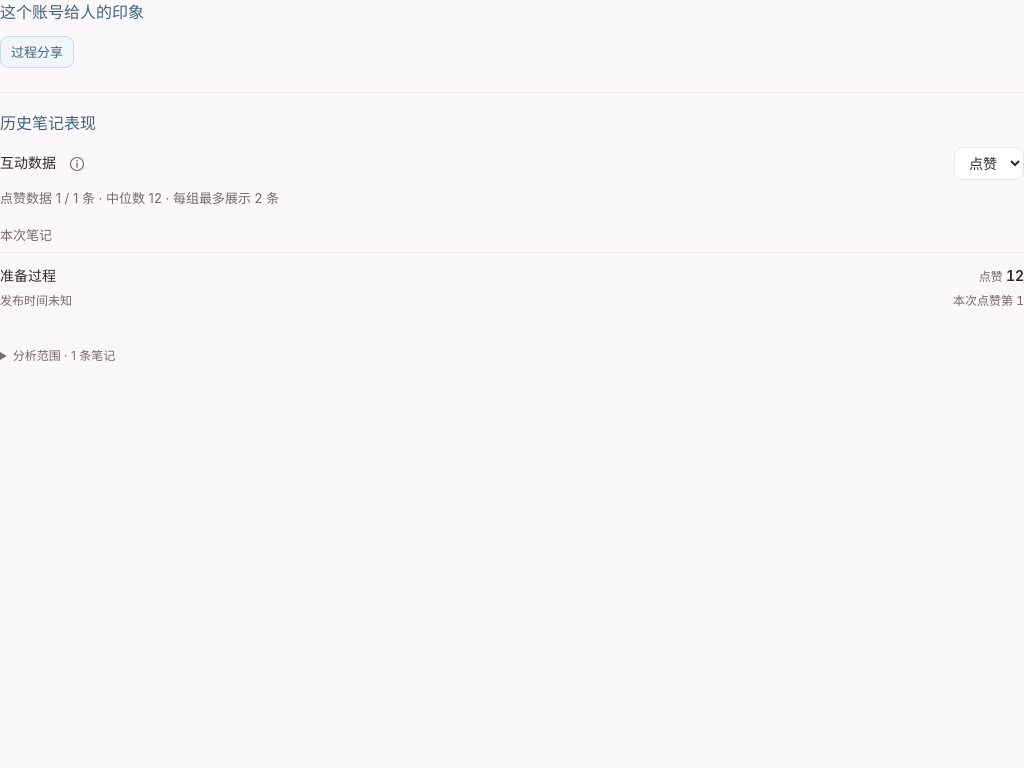
Test case: opens note-level keyword sources without inventing a quote
Click the button with aria-label "过程分享：查看 1 条笔记依据".
click(37, 52)  # box [0,36,74,68]
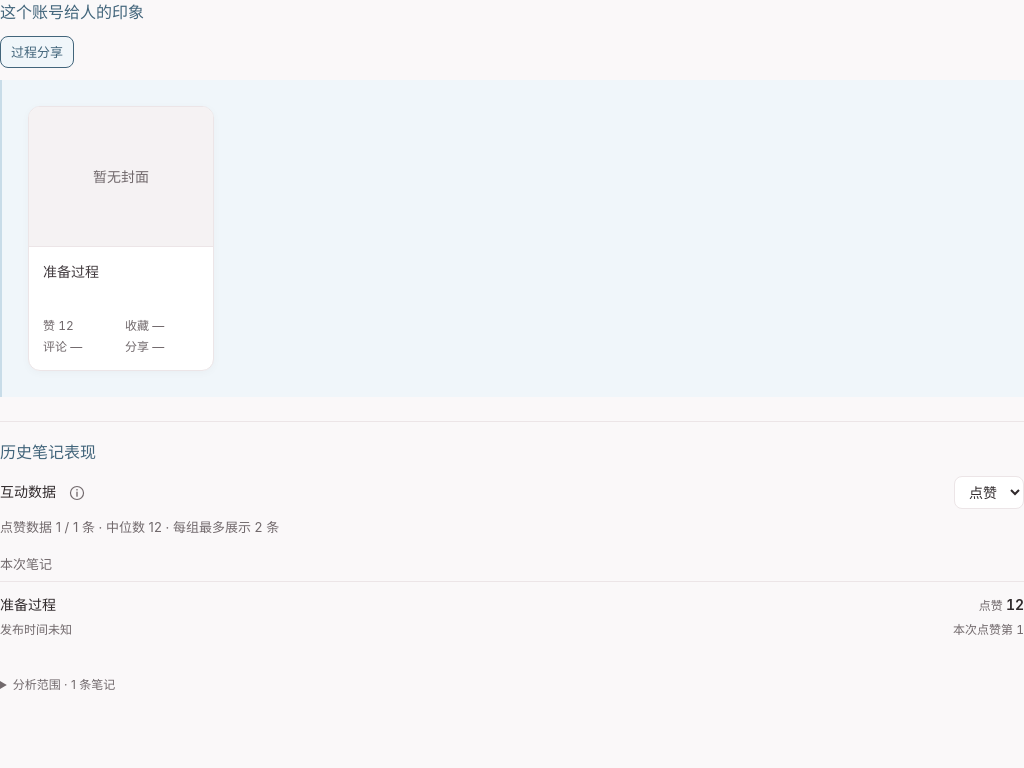
Expected: the element named "过程分享的依据" is shown, [0,80,1023,397]
Expected: the button "暂无封面 准备过程 赞 12 收藏 — 评论 — 分享 —" is shown
Click the button "暂无封面 准备过程 赞 12 收藏 — 评论 — 分享 —".
click(121, 239)  # box [28,106,214,371]
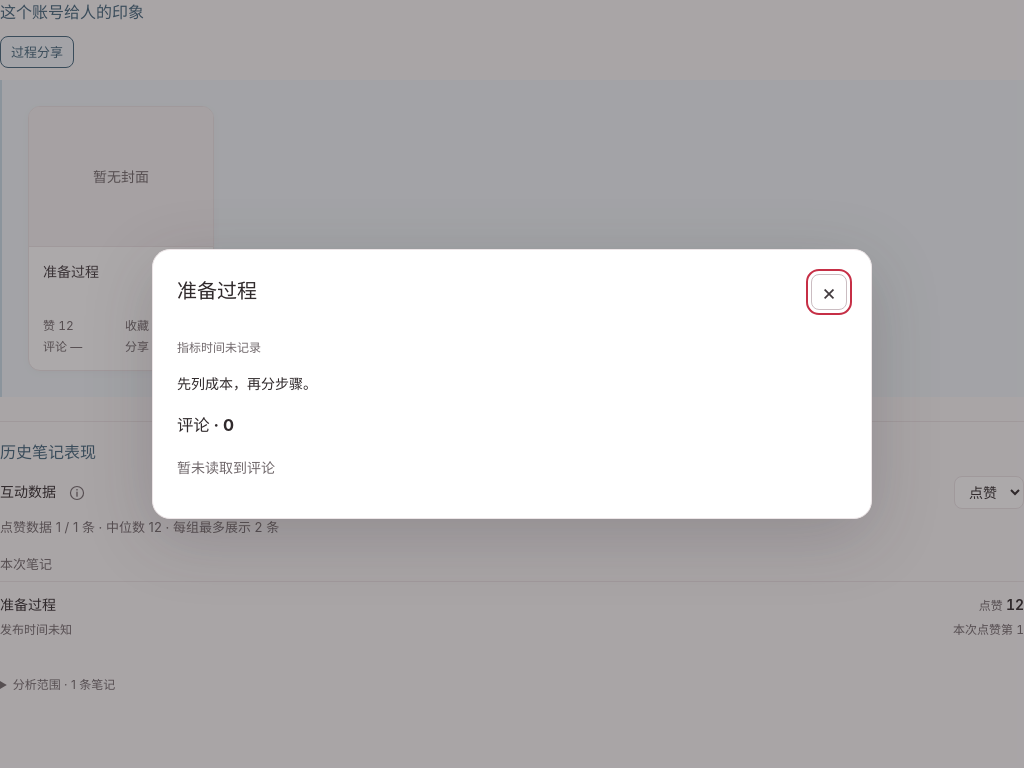
Expected: the dialog is shown, [152,249,872,519]
Expected: the text "先列成本，再分步骤。" is shown, [177,375,317,392]
